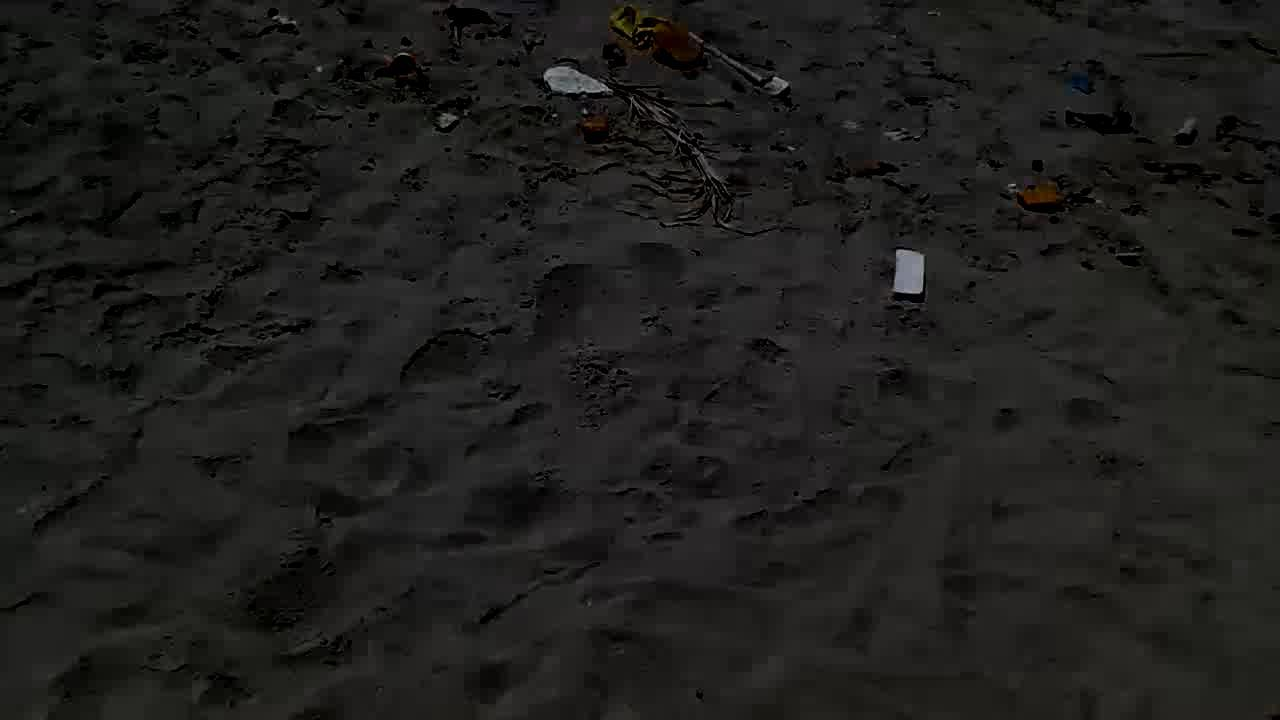large collection of objects: (446, 7, 502, 46), (1176, 115, 1200, 146)
obj: (606, 78, 774, 249), (688, 32, 789, 100), (880, 248, 929, 310), (644, 21, 702, 69), (543, 68, 613, 103), (612, 8, 662, 48), (1064, 107, 1132, 130), (382, 54, 427, 83), (1014, 182, 1058, 207), (580, 118, 611, 140), (1070, 70, 1096, 93)
